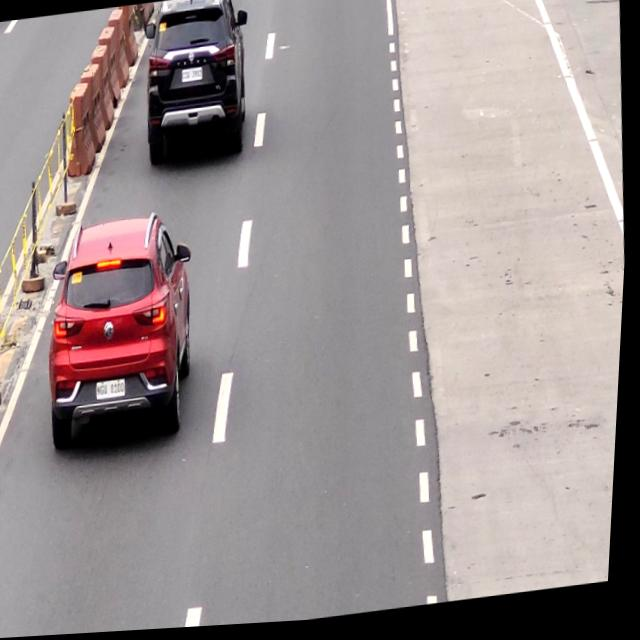Car: (40, 215, 206, 454), (139, 0, 254, 165)
License-Plate: (97, 378, 130, 404), (181, 67, 205, 85)
